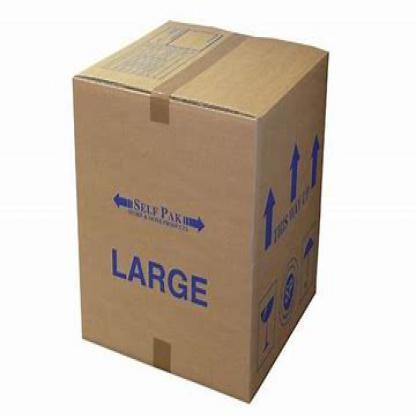package: (72, 19, 332, 408)
